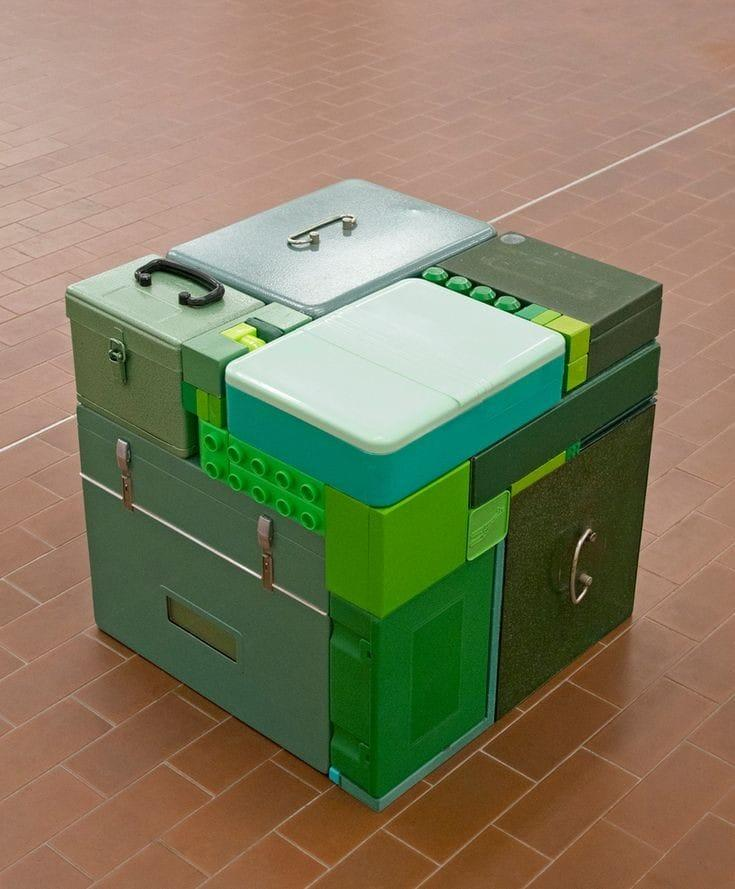cubos: (54, 156, 676, 824)
